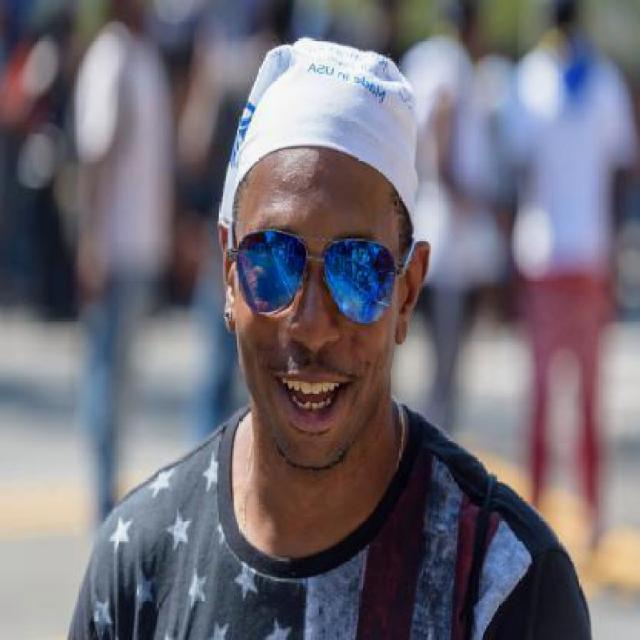face_nomask: (251, 224, 387, 424)
glasses: (218, 209, 412, 331)
